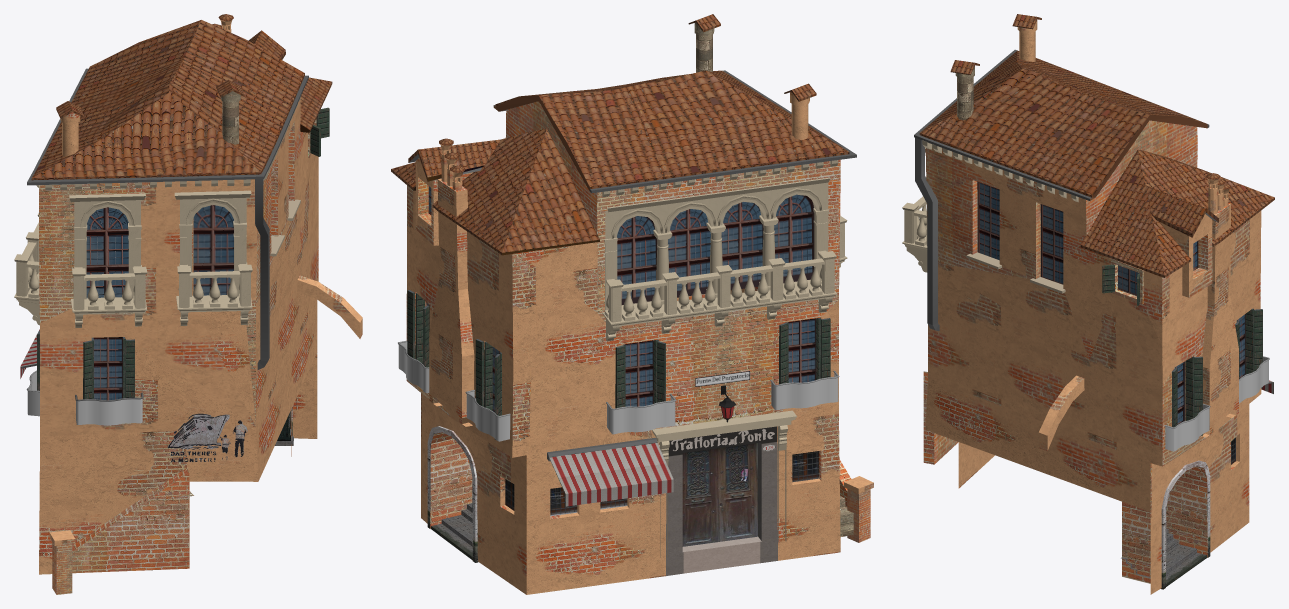
File: casa62.fbx
The picture shows the model from 3 angles, left to right: view 1: azimuth 30°, elevation 25°; view 2: azimuth 150°, elevation 25°; view 3: azimuth 270°, elevation 25°; orthographic projection. The views are drawn at different scales.
Parts seen in each view (by area): view 1: Box707; view 2: Box707; view 3: Box707.
Boxes of the visible parts, x1,y1,x2,y2 form: Box707: (14,14,362,594); Box707: (391,14,873,594); Box707: (902,14,1274,594).
Bounding box in the file's own units: 1109 × 1304 × 980.
